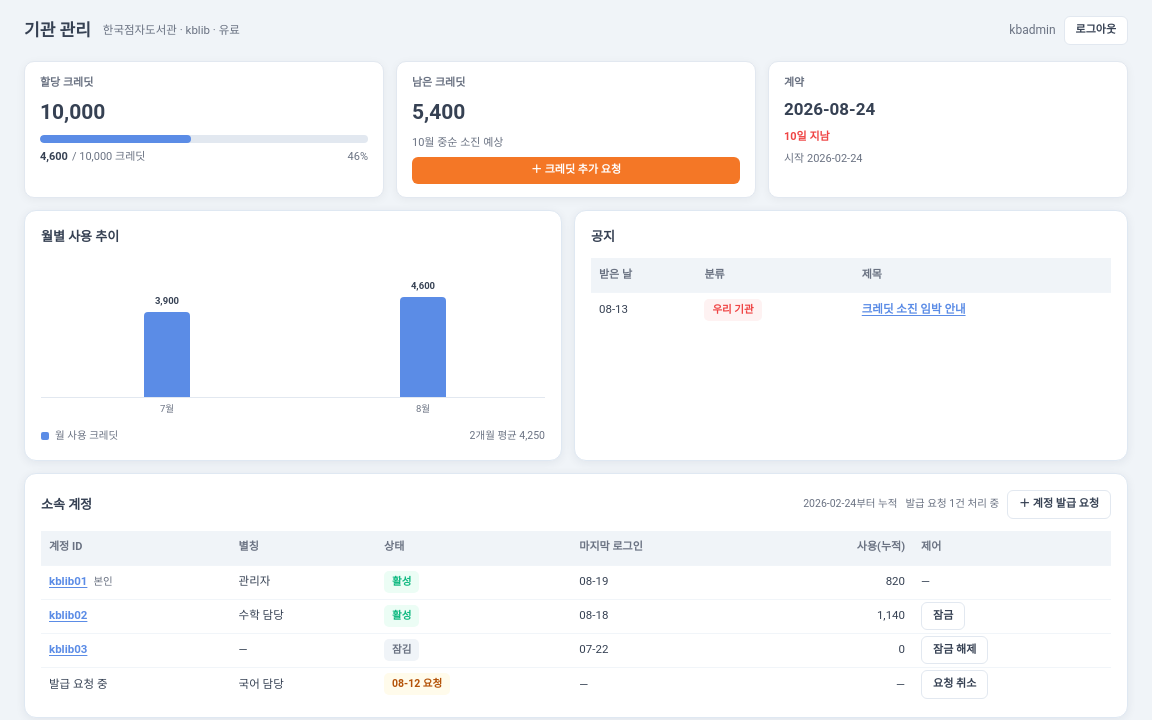
it: 기관 관리 (V3-06 T2) › 계정 ID를 누르면 계정 상세(T2-2)가 열린다
The width and height of the screenshot is (1152, 720).
Click the button "kblib02" at (68, 616), box [49,607,87,625]
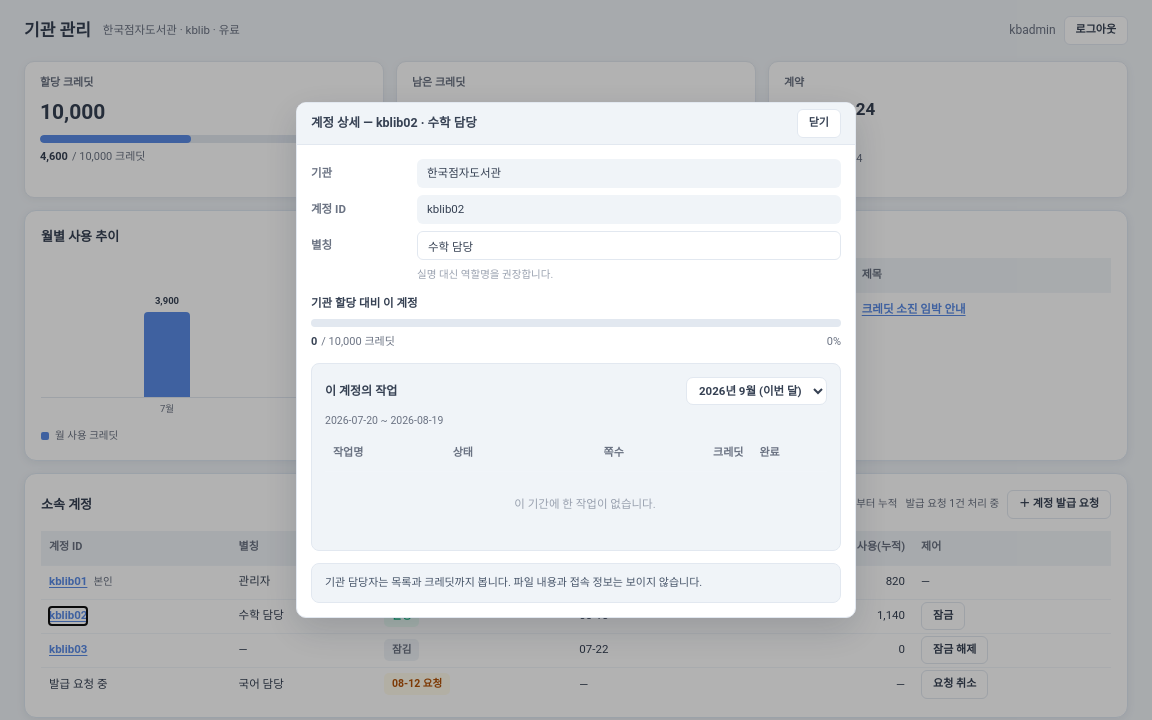
Expected: the dialog "계정 상세 — kblib02 · 수학 담당" is shown, [296,102,856,618]
